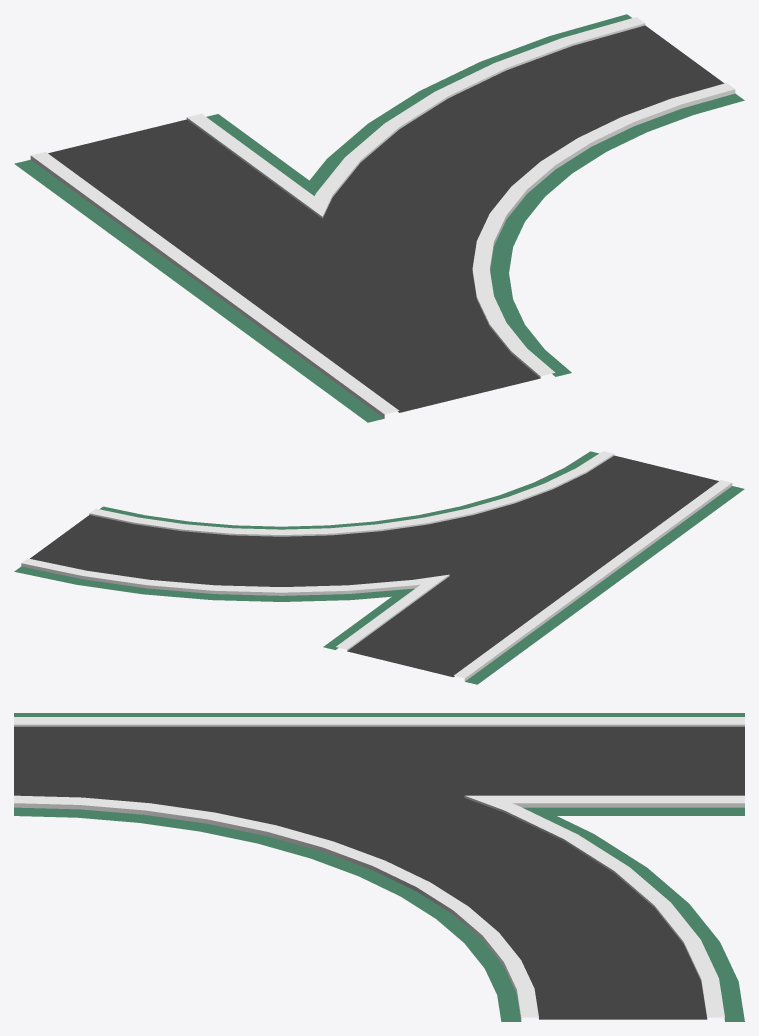
Rendered from roadSplitLarger.glb.
3 renders of one model, top to bottom at view 1: azimuth 30°, elevation 25°; view 2: azimuth 150°, elevation 25°; view 3: azimuth 270°, elevation 25°, orthographic. The views are drawn at different scales.
Parts seen in each view (by area): view 1: roadSplitLarger(Clone); view 2: roadSplitLarger(Clone); view 3: roadSplitLarger(Clone).
Boxes of the visible parts, left/top/right/bottom form: roadSplitLarger(Clone): left=14, top=14, right=744, bottom=422; roadSplitLarger(Clone): left=14, top=451, right=744, bottom=684; roadSplitLarger(Clone): left=14, top=713, right=744, bottom=1021.
Size of the model in its own units: 3 by 0.02 by 3.
